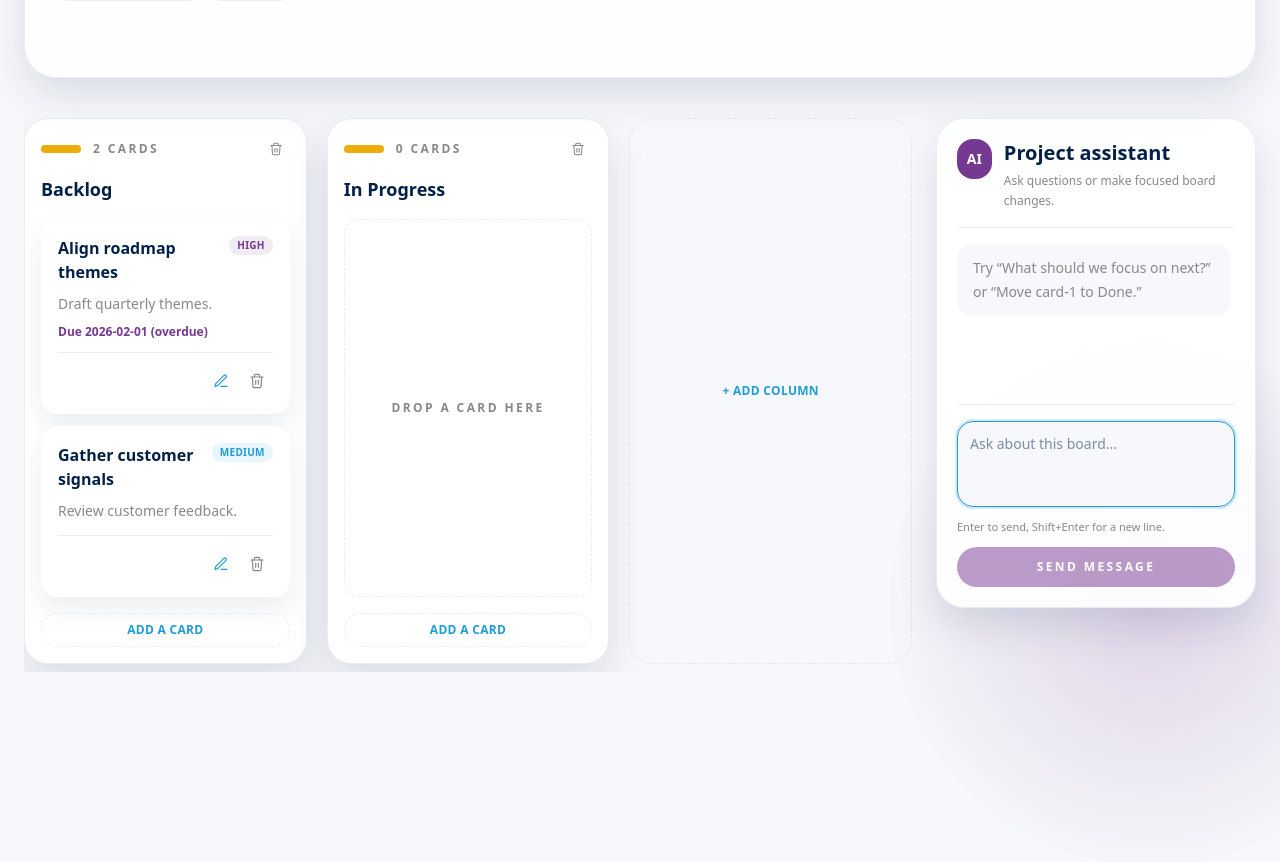
it: KanbanBoard › shows the assistant response and applies its board snapshot
This screenshot has width=1280, height=862.
(page scrolled)
In the text box named "Ask the project assistant": (1096, 464) [957, 421, 1235, 507], type "Rename Backlog"
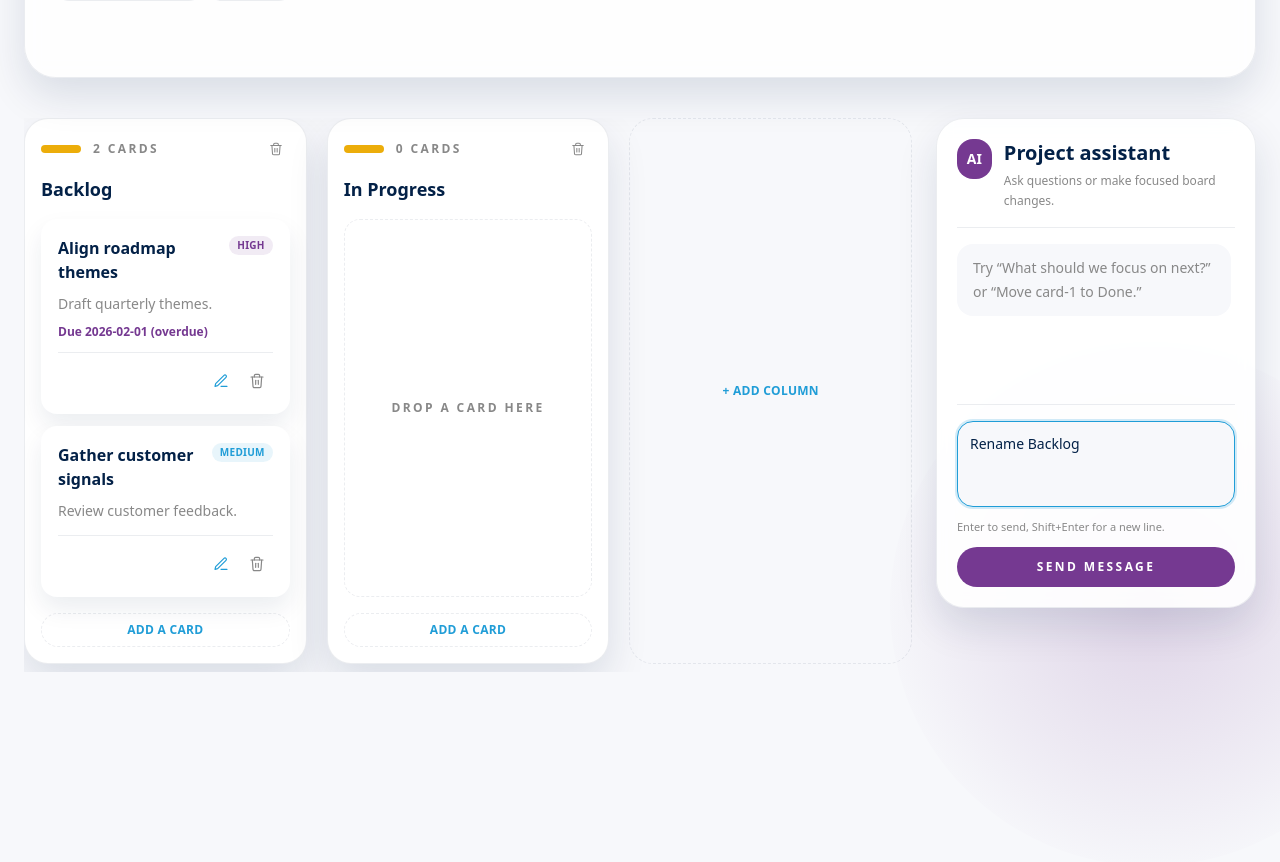
Click the button "Send message": (1096, 567) [957, 547, 1235, 587]
(page scrolled)
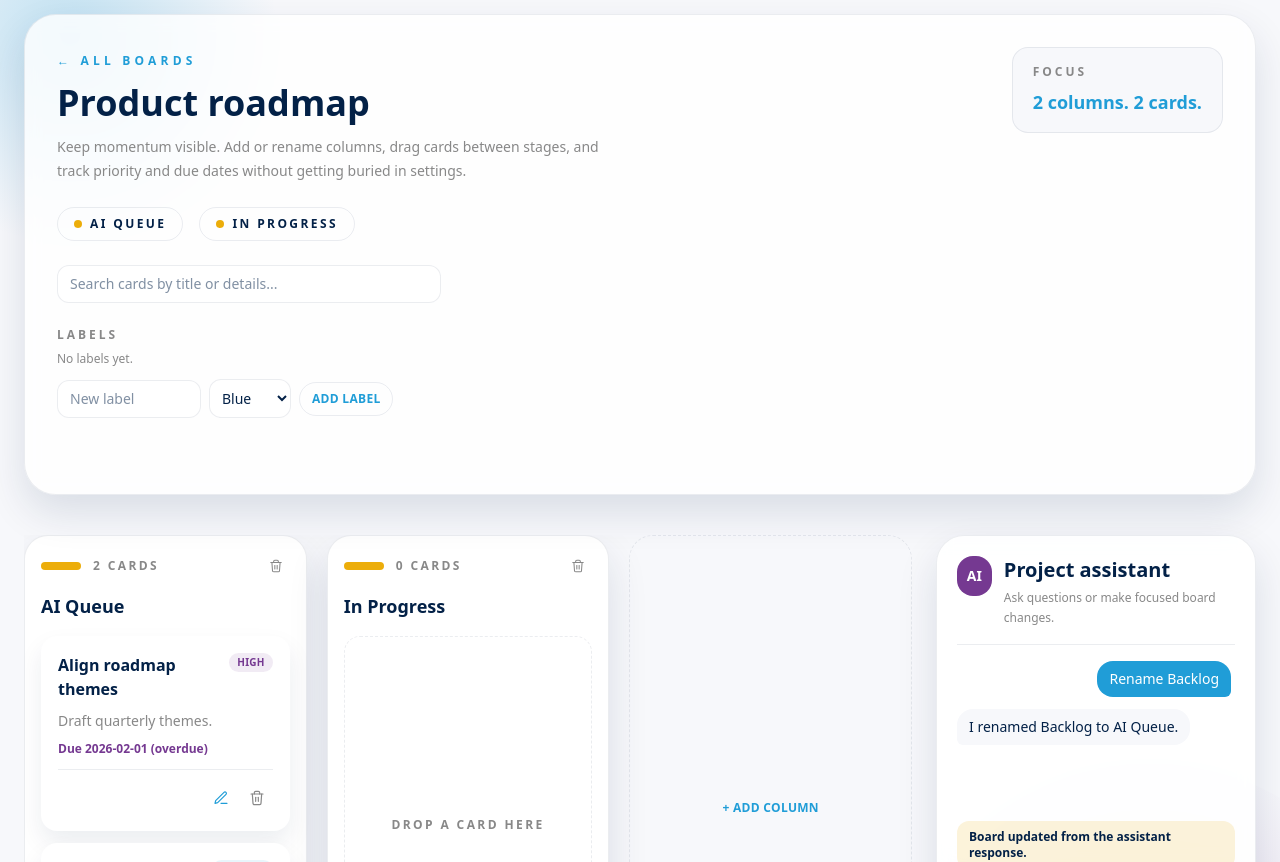
Expected: the text "I renamed Backlog to AI Queue." is shown, [957, 709, 1190, 745]
Expected: the text "AI Queue" is shown, [57, 207, 183, 241]
